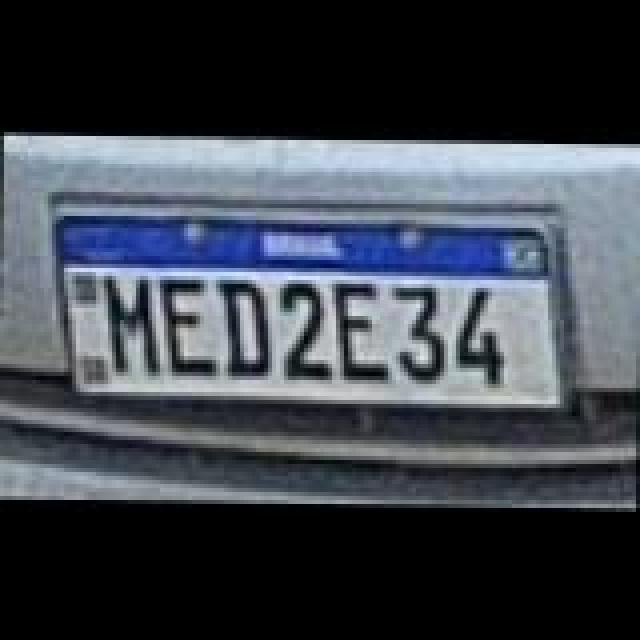2: (278, 276, 338, 380)
3: (394, 280, 454, 380)
4: (454, 284, 506, 384)
D: (218, 276, 278, 376)
E: (160, 276, 224, 376), (334, 276, 394, 380)
M: (106, 274, 166, 374)
